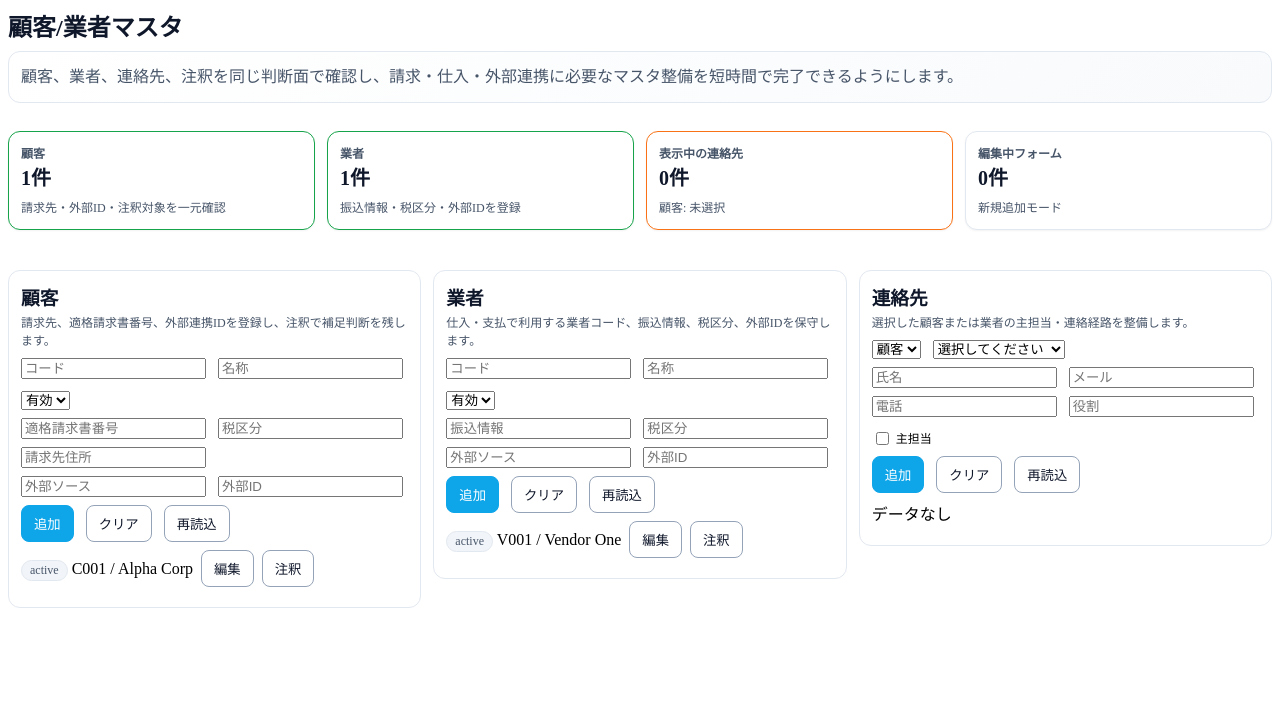
Test: MasterData › requires an owner before saving a contact
Step 1. Click the button "追加" below "選択した顧客または業者の主担当・連絡経路を整備します。" → [898, 474], box [872,456,924,493]
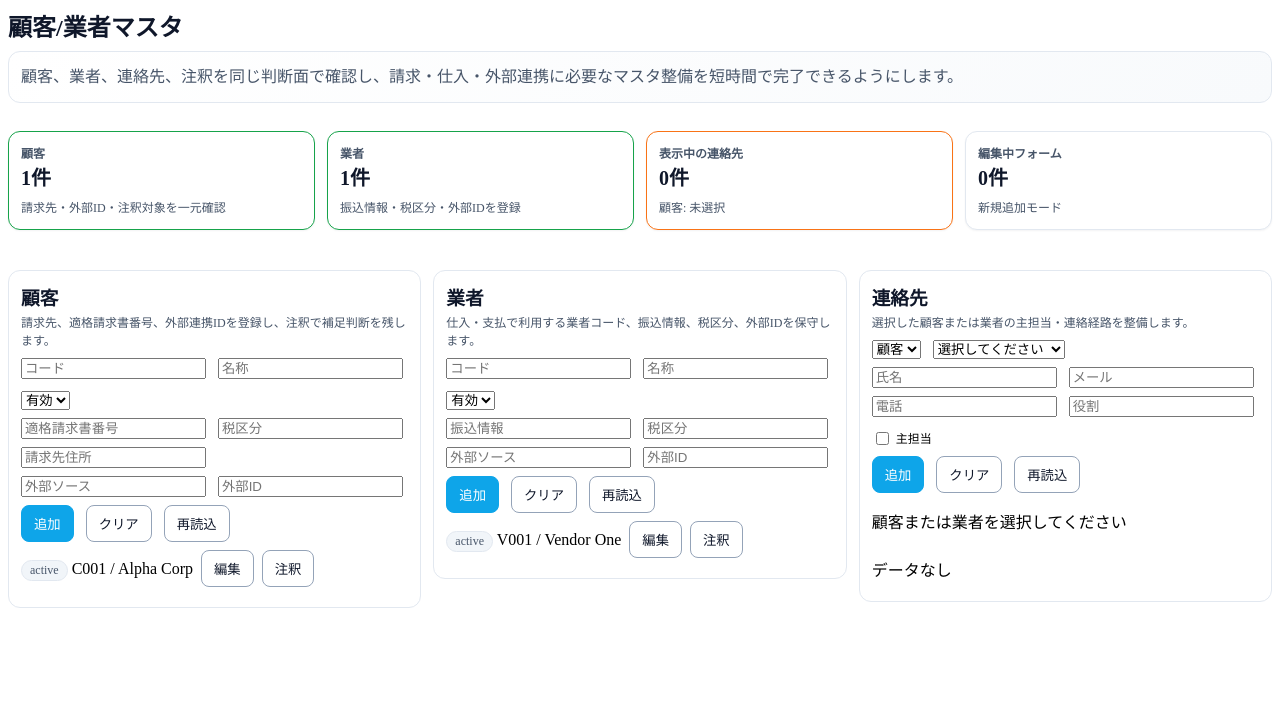
Expected: the text "顧客または業者を選択してください" is shown, [872,514,1127,531]
